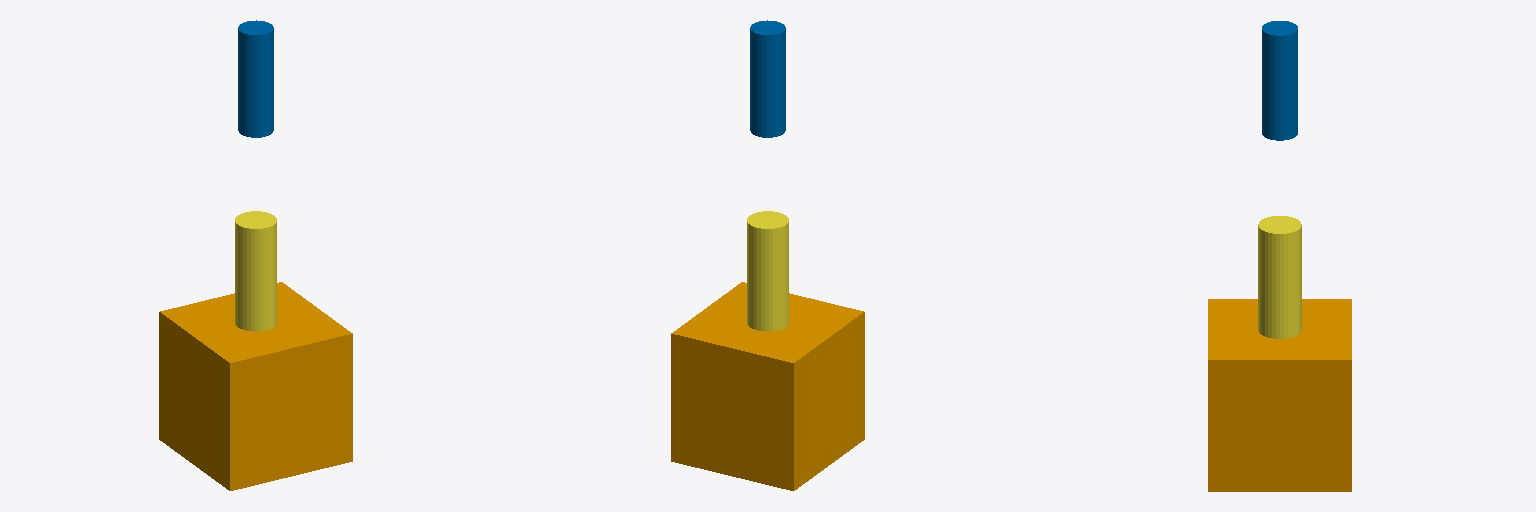
robot.urdf — two_dof_arm:
<?xml version="1.0"?>
<robot name="two_dof_arm">

  <!-- Base link -->
  <link name="arm_base_link">
    <inertial>
      <origin xyz="0 0 0.1" rpy="0 0 0"/>
      <mass value="0.0001"/>
      <inertia ixx="0.00001" ixy="0.0" ixz="0.0"
               iyy="0.00001" iyz="0.0"
               izz="0.00001"/>
    </inertial>

    <visual>
      <origin xyz="0 0 0.1" rpy="0 0 0"/>
      <geometry>
        <box size="0.2 0.2 0.2"/>
      </geometry>
    </visual>

    <collision>
      <origin xyz="0 0 0.1" rpy="0 0 0"/>
      <geometry>
        <box size="0.2 0.2 0.2"/>
      </geometry>
    </collision>
  </link>

  <link name="gimbal_pitch_link">
    <inertial>
      <origin xyz="0 0 0" rpy="0 0 0"/>
      <mass value="0.0001"/>
      <inertia ixx="0.00001" ixy="0.0" ixz="0.0"
               iyy="0.00001" iyz="0.0"
               izz="0.00001"/>
    </inertial>
  </link>

  <joint name="gimbal_pitch_joint" type="revolute">
    <parent link="arm_base_link"/>
    <child link="gimbal_pitch_link"/>
    <origin xyz="0 0 0.2" rpy="0 0 0"/>
    <axis xyz="0 1 0"/>
    <limit lower="-1.57" upper="1.57" effort="5" velocity="1"/>
  </joint>

  <link name="gimbal_roll_link">
    <inertial>
      <origin xyz="0 0 0" rpy="0 0 0"/>
      <mass value="0.0001"/>
      <inertia ixx="0.00001" ixy="0.0" ixz="0.0"
               iyy="0.00001" iyz="0.0"
               izz="0.00001"/>
    </inertial>
  </link>

  <joint name="gimbal_roll_joint" type="revolute">
    <parent link="gimbal_pitch_link"/>
    <child link="gimbal_roll_link"/>
    <origin xyz="0 0 0" rpy="0 0 0"/>
    <axis xyz="1 0 0"/>
    <limit lower="-1.57" upper="1.57" effort="5" velocity="1"/>
  </joint>

  <!-- Link 1 -->
  <link name="link1">
    <inertial>
      <origin xyz="0.0 0 0.08" rpy="0 0 0"/>
      <mass value="0.0001"/>
      <inertia ixx="0.000005" ixy="0.0" ixz="0.0"
               iyy="0.000005" iyz="0.0"
               izz="0.000005"/>
    </inertial>

    <visual>
      <origin xyz="0.0 0 0.08" rpy="0 0 0"/>
      <geometry>
        <cylinder radius="0.03" length="0.16"/>
      </geometry>
    </visual>

    <collision>
      <origin xyz="0.0 0 0.08" rpy="0 0 0"/>
      <geometry>
        <cylinder radius="0.03" length="0.16"/>
      </geometry>
    </collision>
  </link>

  <joint name="joint1" type="revolute">
    <parent link="gimbal_roll_link"/>
    <child link="link1"/>
    <origin xyz="0 0 0" rpy="0 0 0"/>
    <axis xyz="0 1 0"/>
    <limit lower="-3.14" upper="3.14" effort="10" velocity="3"/>
  </joint>

  <!-- Link 2 -->
  <link name="link2">
    <inertial>
      <origin xyz="0.0 0 0.08" rpy="0 0 0"/>
      <mass value="0.0001"/>
      <inertia ixx="0.000003" ixy="0.0" ixz="0.0"
               iyy="0.000003" iyz="0.0"
               izz="0.000003"/>
    </inertial>

    <visual>
      <origin xyz="0.0 0 0.08" rpy="0 0 0"/>
      <geometry>
        <cylinder radius="0.025" length="0.16"/>
      </geometry>
    </visual>

    <collision>
      <origin xyz="0.0 0 0.08" rpy="0 0 0"/>
      <geometry>
        <cylinder radius="0.025" length="0.16"/>
      </geometry>
    </collision>
  </link>

  <joint name="joint2" type="revolute">
    <parent link="link1"/>
    <child link="link2"/>
    <origin xyz="0.0 0 0.3" rpy="0 0 0"/>
    <axis xyz="0 1 0"/>
    <limit lower="-2.0" upper="2.0" effort="10" velocity="3"/>
  </joint>

  <!-- ros2_control -->
  <ros2_control name="GazeboSystem" type="system">
    <hardware>
      <plugin>gazebo_ros2_control/GazeboSystem</plugin>
    </hardware>

    <joint name="joint1">
      <command_interface name="position"/>
      <state_interface name="position"/>
      <state_interface name="velocity"/>
    </joint>

    <joint name="joint2">
      <command_interface name="position"/>
      <state_interface name="position"/>
      <state_interface name="velocity"/>
    </joint>

    <joint name="gimbal_pitch_joint">
      <command_interface name="position"/>
      <state_interface name="position"/>
      <state_interface name="velocity"/>
    </joint>

    <joint name="gimbal_roll_joint">
      <command_interface name="position"/>
      <state_interface name="position"/>
      <state_interface name="velocity"/>
    </joint>
  </ros2_control>

  <!-- Gazebo ros2_control plugin -->
  <gazebo>
    <plugin name="gazebo_ros2_control" filename="libgazebo_ros2_control.so">
      <parameters>
        /home/ash/MAS_ws_public/install/drone_with_arm/share/drone_with_arm/config/controllers.yaml
      </parameters>
    </plugin>
  </gazebo>

</robot>

--- Facts derived from the render (not from the file) ---
3 views of the same robot in one strip: view 1: azimuth 30°, elevation 25°; view 2: azimuth 150°, elevation 25°; view 3: azimuth 270°, elevation 25° (orthographic).
Model two_dof_arm with 5 links and 4 joints (4 revolute), rooted at arm_base_link, posed all joints at 0.
Links seen in each view (by area): view 1: arm_base_link, link1, link2; view 2: arm_base_link, link1, link2; view 3: arm_base_link, link1, link2.
Boxes of the visible links, x1,y1,x2,y2 form: arm_base_link: [159, 282, 352, 490]; link1: [235, 211, 276, 331]; link2: [238, 20, 273, 137]; arm_base_link: [671, 282, 864, 490]; link1: [747, 211, 788, 331]; link2: [750, 20, 785, 137]; arm_base_link: [1208, 299, 1351, 491]; link1: [1258, 216, 1301, 338]; link2: [1262, 21, 1297, 140].
Size in the robot's own frame: 0.2 by 0.2 by 0.66 metres.
Geometry: primitives only (box / cylinder / sphere), no mesh files.
